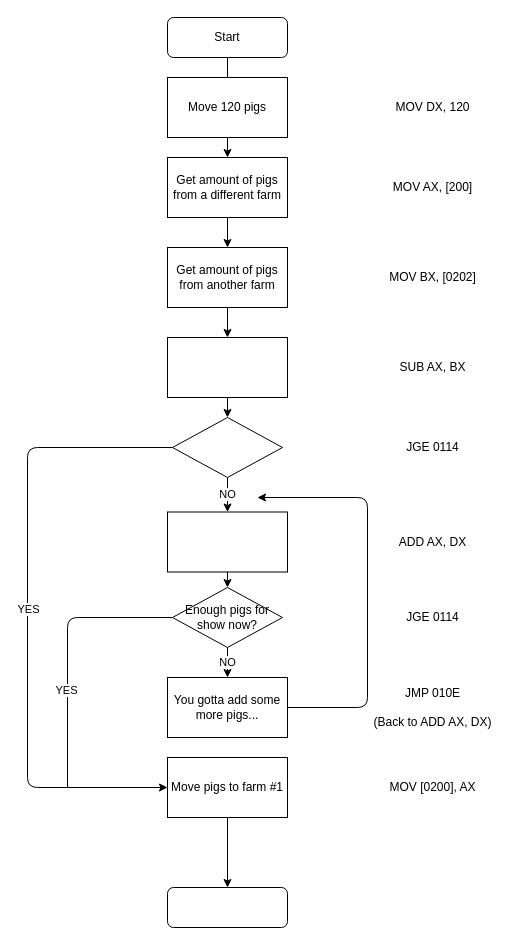
Some shapes in this 515 by 945 pixel diagram are drawn without their labels. Each missing label, with the box of its shape:
Add pigs from farm #1 to our farm: (166, 511, 288, 572)
End Program: (166, 886, 288, 928)
Enough pigs for show?: (172, 416, 282, 478)
Subtract pigs from farm #1 from pigs from farm #2: (166, 336, 288, 398)
